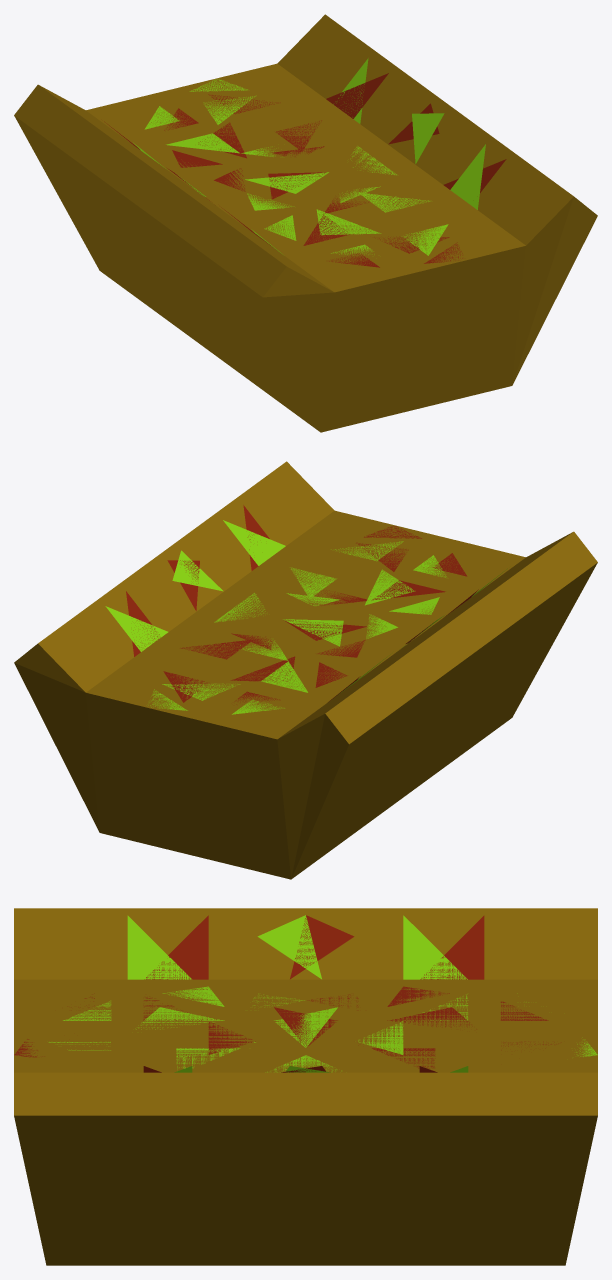
Rendered from inv_worm_batta_2.obj.
3 renders of one model, top to bottom at view 1: azimuth 30°, elevation 25°; view 2: azimuth 150°, elevation 25°; view 3: azimuth 270°, elevation 25°, orthographic. The views are drawn at different scales.
Size of the model in its own units: 0.2188 by 0.1172 by 0.2812.
